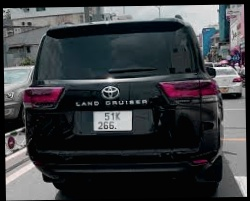Bien-so: (90, 104, 134, 126)
